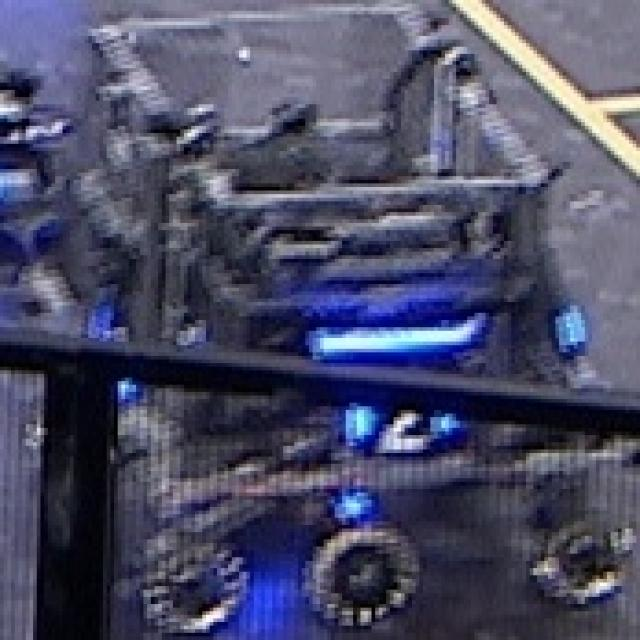B2: (338, 392, 456, 449)
